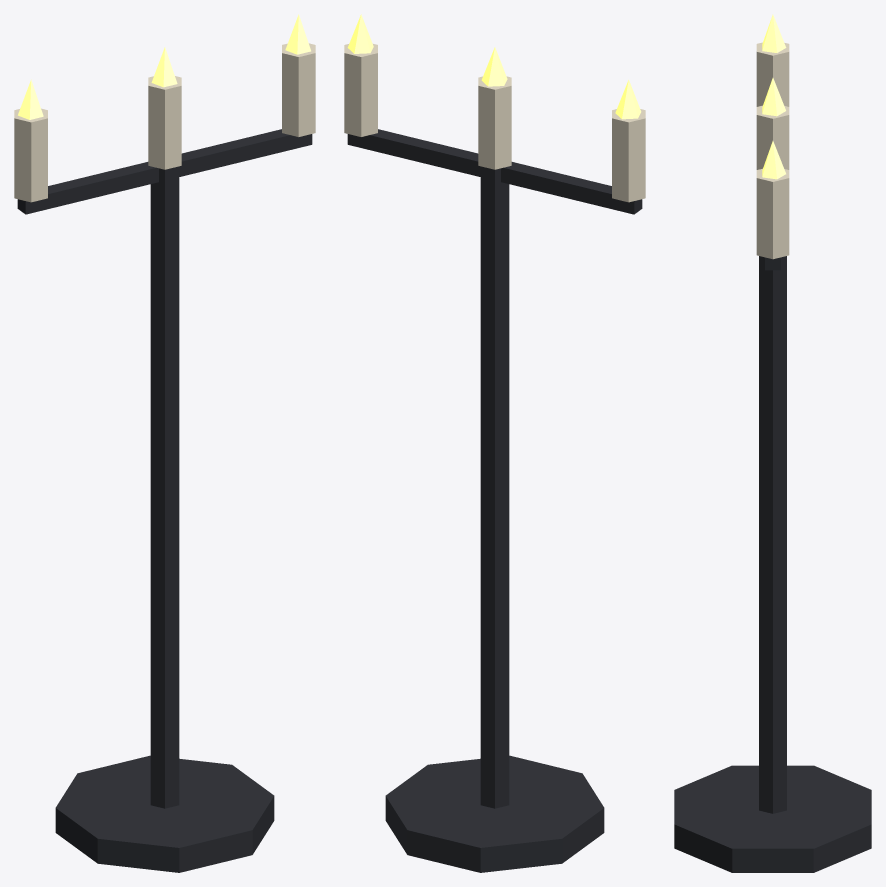
Rendered from candelabra.glb.
3 views of the same model, side by side, from view 1: azimuth 30°, elevation 25°; view 2: azimuth 150°, elevation 25°; view 3: azimuth 270°, elevation 25° (orthographic). The views are drawn at different scales.
Parts seen in each view (by area): view 1: candelabra; view 2: candelabra; view 3: candelabra.
Part boxes in pixels (x1,y1,x2,y2): candelabra: (14, 14, 315, 872); candelabra: (344, 14, 645, 872); candelabra: (674, 14, 871, 872).
Bounding box in the file's own units: 0.63 × 1.56 × 0.3696.
